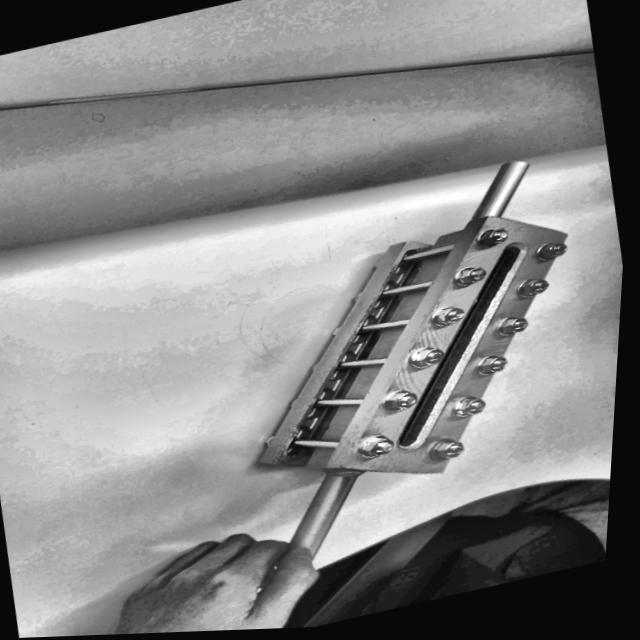ShuiWeiQi_12: (240, 146, 632, 548)
